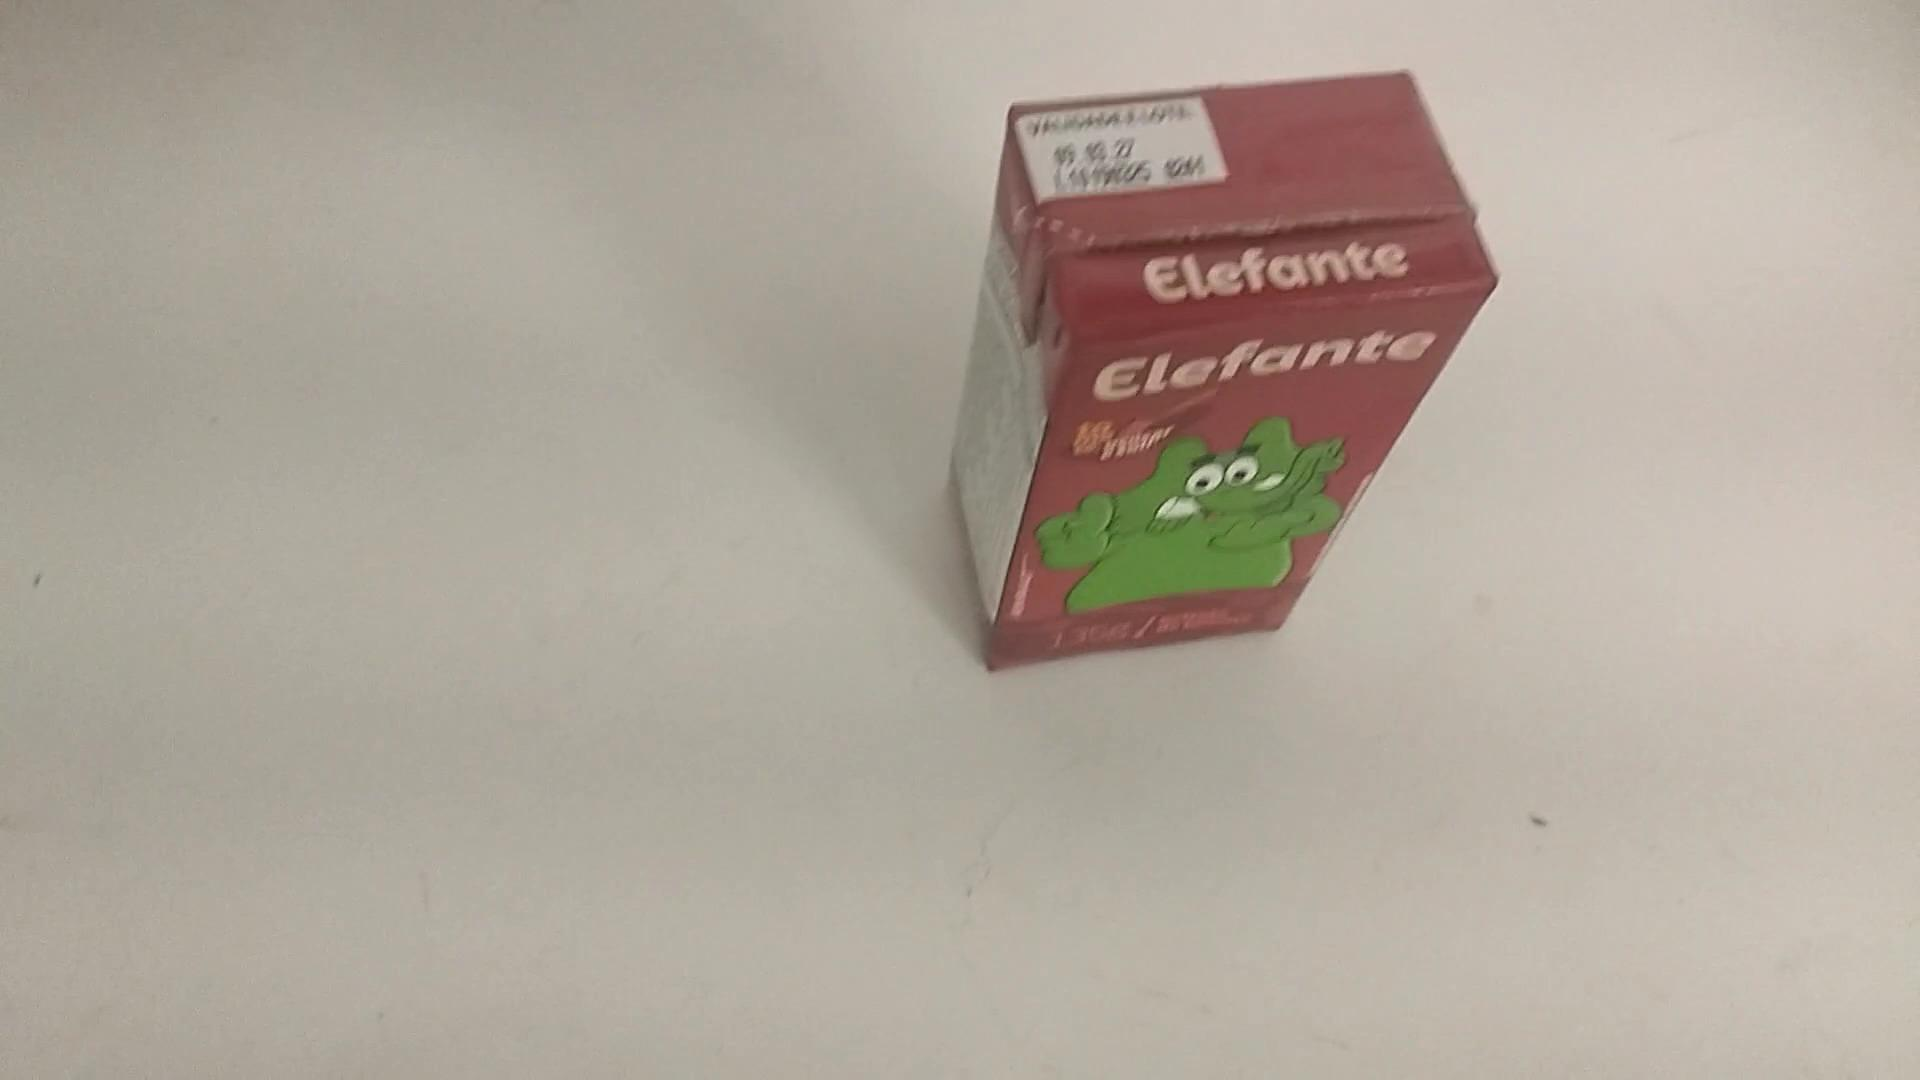tomate: (939, 59, 1515, 687)
